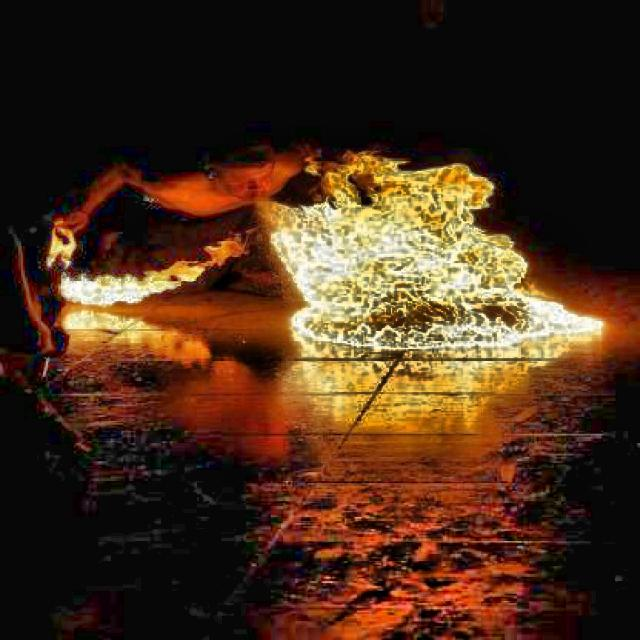Fire: (261, 152, 604, 350), (59, 232, 246, 306)
